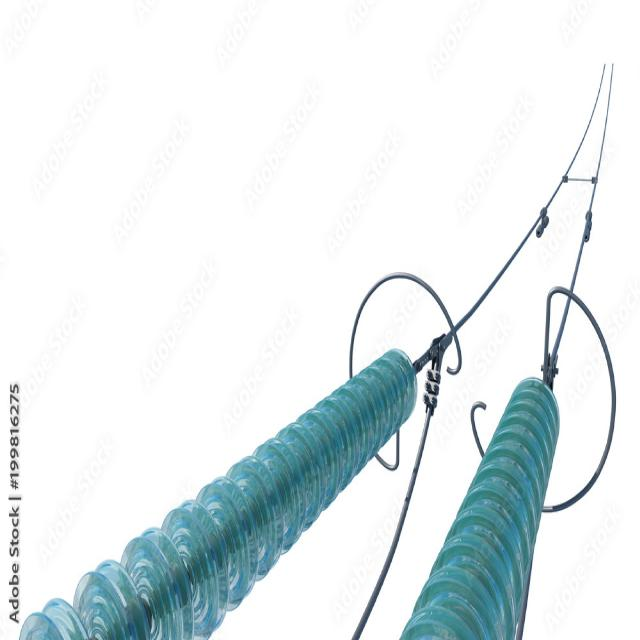insulator: (32, 349, 430, 636), (448, 342, 558, 635)
